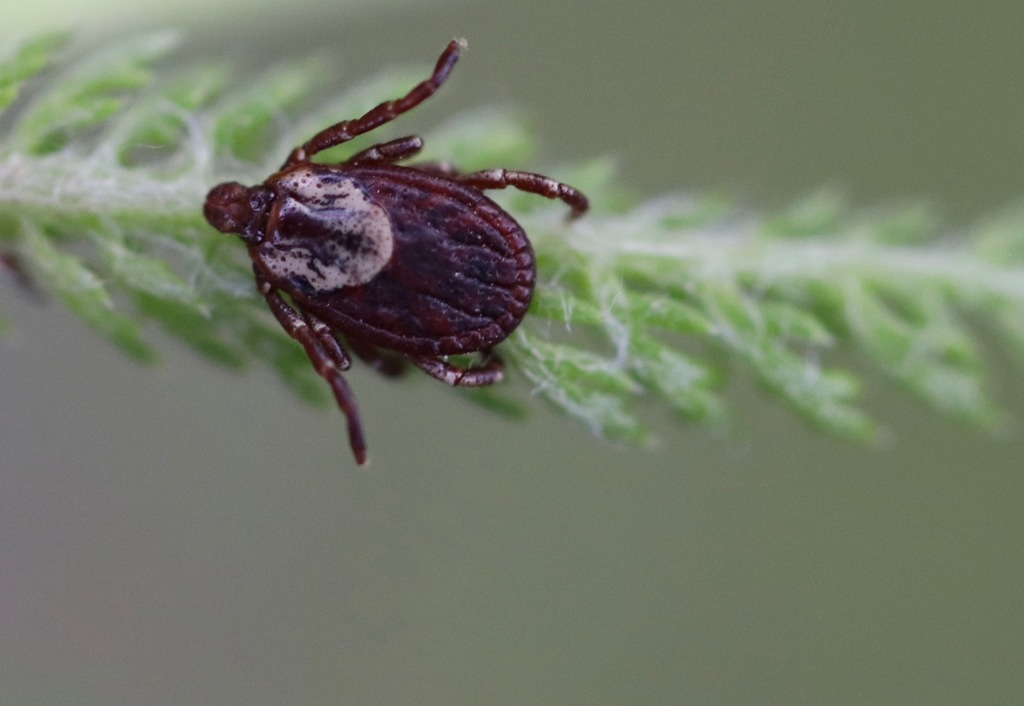garrapata: (188, 31, 597, 481)
